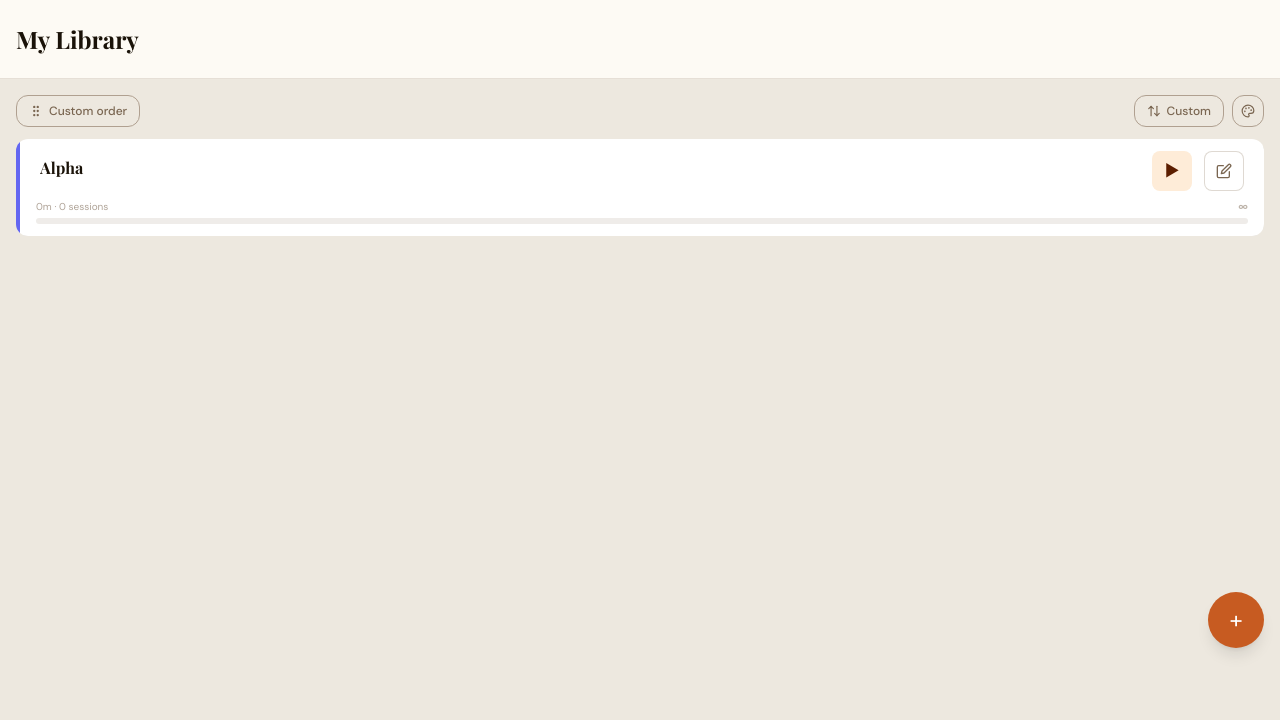
Scenario: ProjectLibrary color filter › dropdown opens on click and shows All option
Click the button named "Filter by color". click: (1248, 111)
box: [1232,95,1264,127]
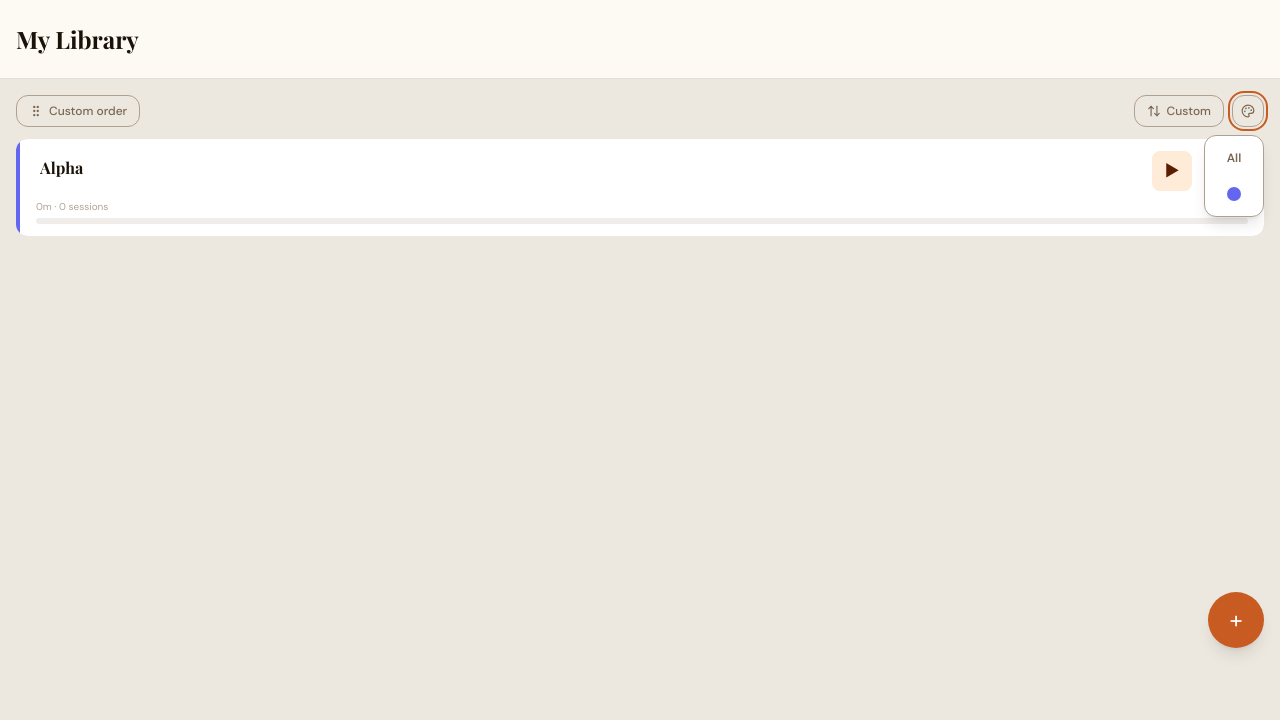
Check: the button "All" is shown, box [1205,140,1263,176]
